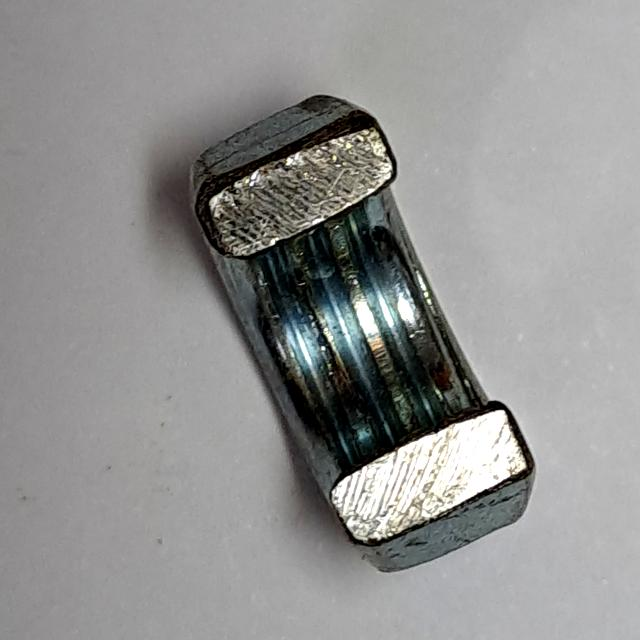Side-Fracture: (173, 81, 552, 595)
